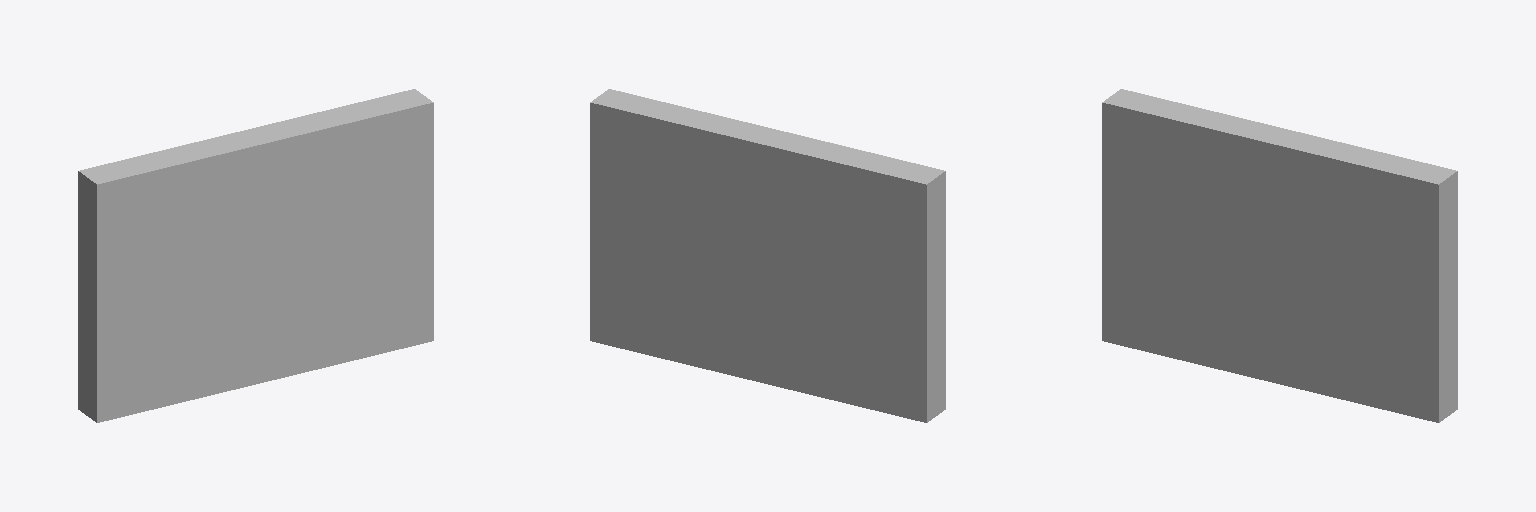
File: back.obj
3 renders of one model, left to right at view 1: azimuth 30°, elevation 25°; view 2: azimuth 150°, elevation 25°; view 3: azimuth 330°, elevation 25°, orthographic.
Parts seen in each view (by area): view 1: object 1; view 2: object 1; view 3: object 1.
Boxes of the visible parts, box(x1,y1,x2,y2) form: object 1: box(78, 89, 433, 422); object 1: box(590, 89, 945, 422); object 1: box(1102, 89, 1457, 422).
Bounding box in the file's own units: 3.1 × 2.1 × 0.3.